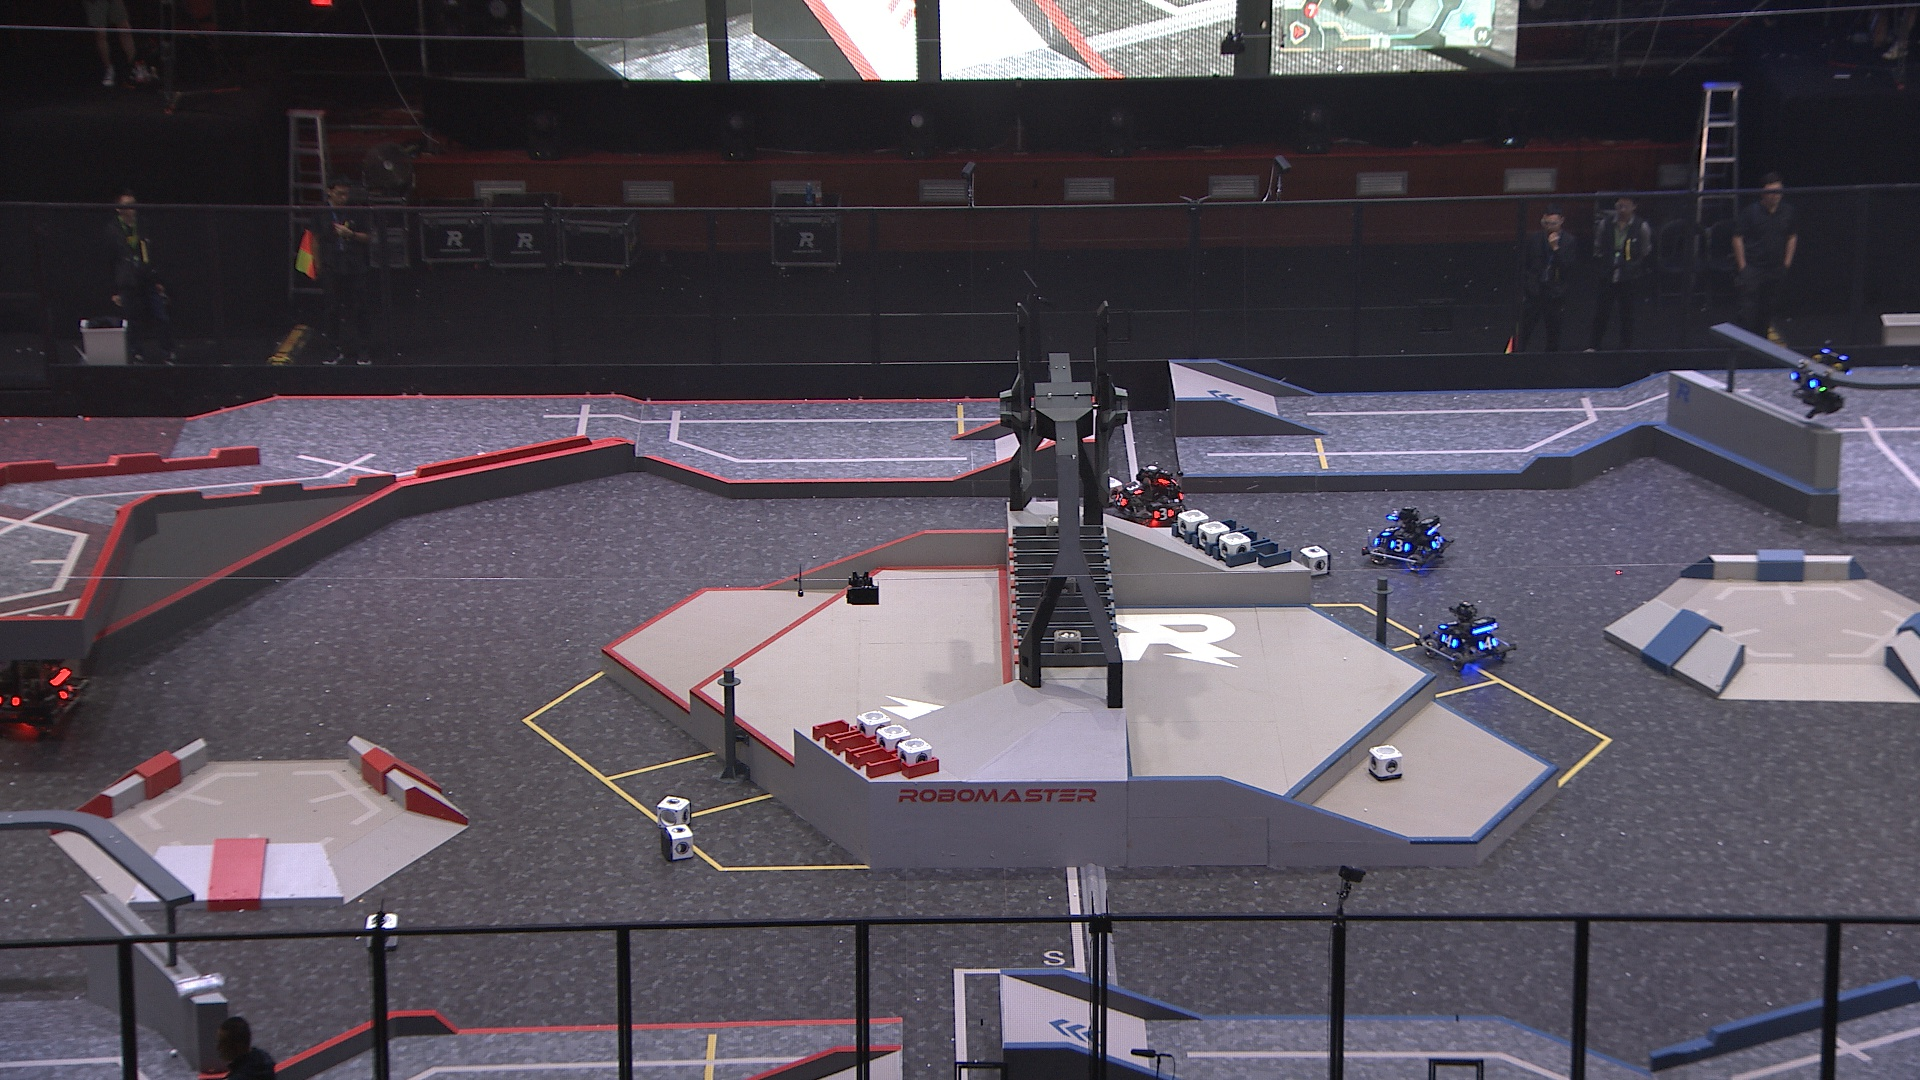armor: (1789, 371, 1821, 392), (1477, 632, 1501, 654), (57, 680, 78, 703), (1150, 505, 1176, 522), (1387, 541, 1414, 556), (1125, 479, 1145, 498), (1437, 617, 1461, 632), (1439, 633, 1458, 650), (1382, 522, 1403, 538), (1112, 491, 1127, 510), (1429, 531, 1444, 553)
car: (1415, 597, 1522, 675), (1361, 501, 1460, 572), (1109, 462, 1193, 531)
watcher: (1785, 335, 1854, 422)
